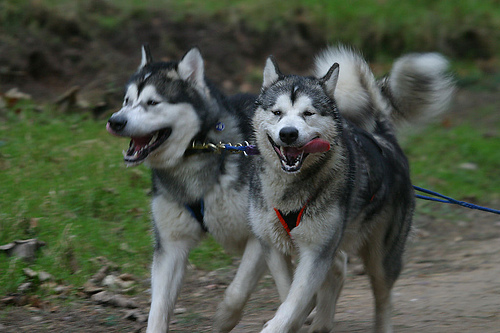dog: (248, 45, 455, 332), (107, 44, 250, 332)
